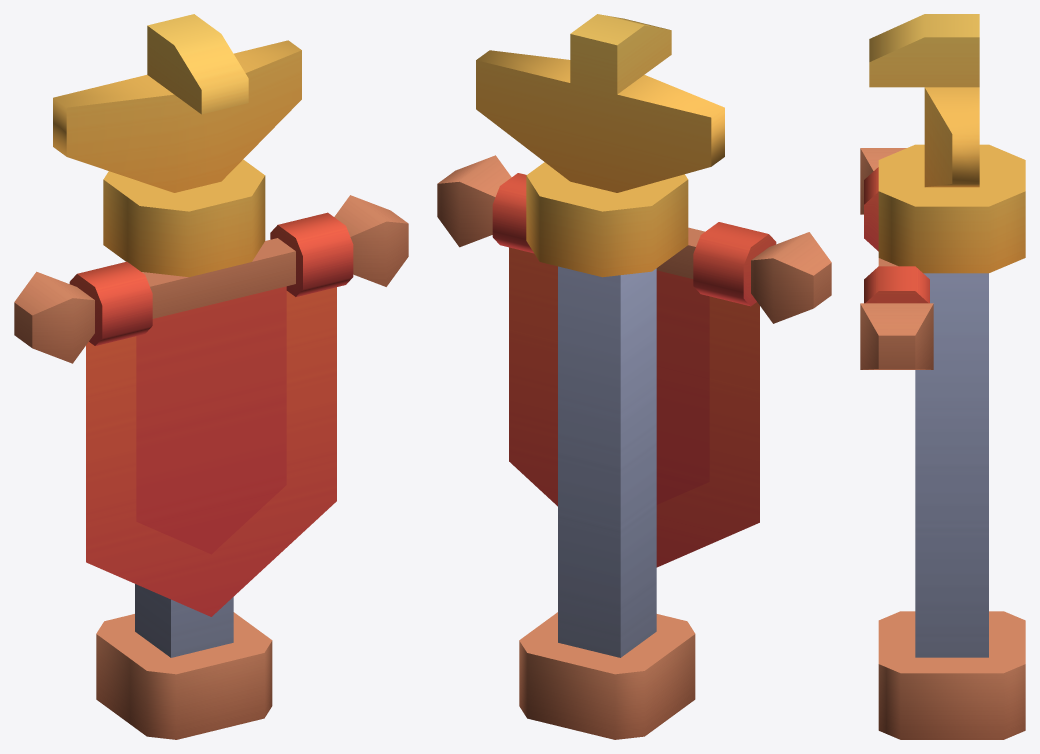
The model's file is banner.obj.
The picture shows the model from 3 angles, left to right: view 1: azimuth 30°, elevation 25°; view 2: azimuth 150°, elevation 25°; view 3: azimuth 270°, elevation 25°; orthographic projection.
Parts seen in each view (by area): view 1: banner; view 2: banner; view 3: banner.
Boxes of the visible parts, bbox=[...] form: banner: bbox=[14, 14, 408, 739]; banner: bbox=[437, 14, 831, 739]; banner: bbox=[860, 14, 1025, 739].
Bounding box in the file's own units: 0.6 × 1.02 × 0.225.
1 material, 1 textured.
